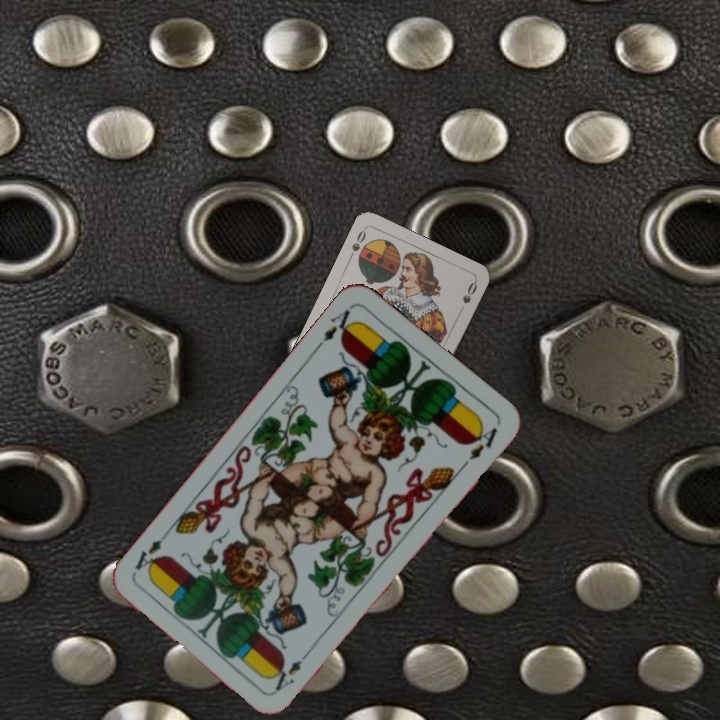EA: (312, 303, 359, 352), (271, 645, 314, 694)
SO: (345, 224, 369, 263)
